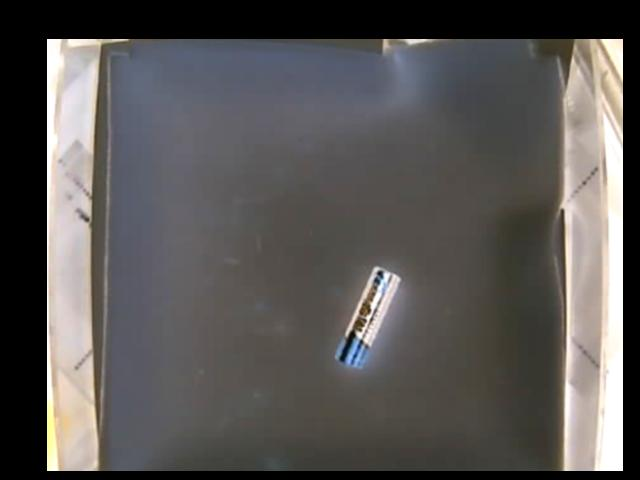Battery: (334, 265, 400, 369)
